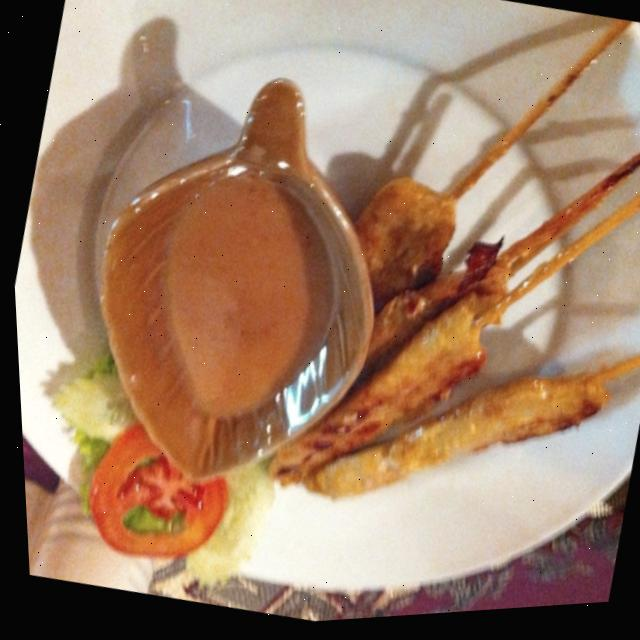牛肉菜式: (213, 0, 640, 623)
